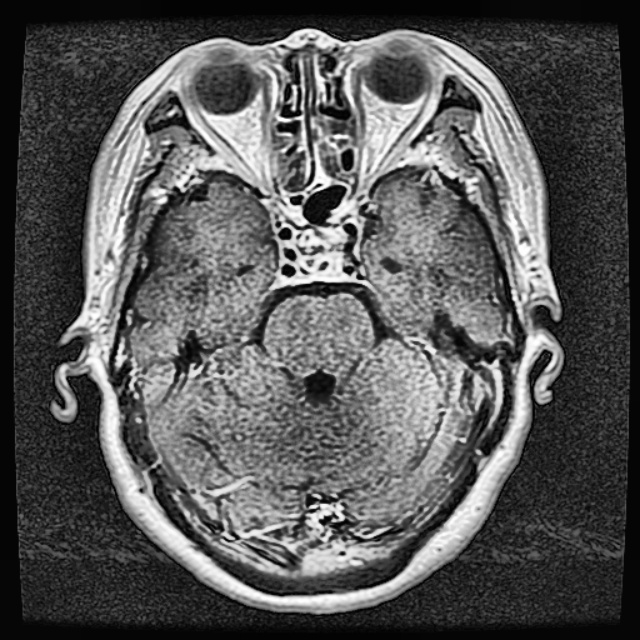Pituitary: (297, 227, 345, 270)
